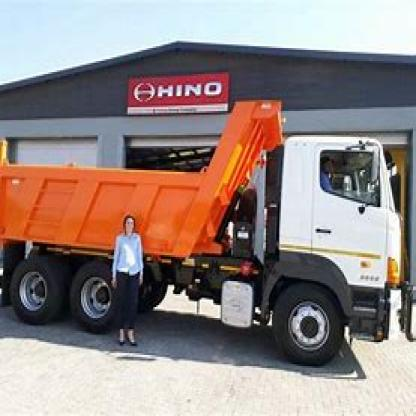dump_truck: (5, 100, 414, 379)
